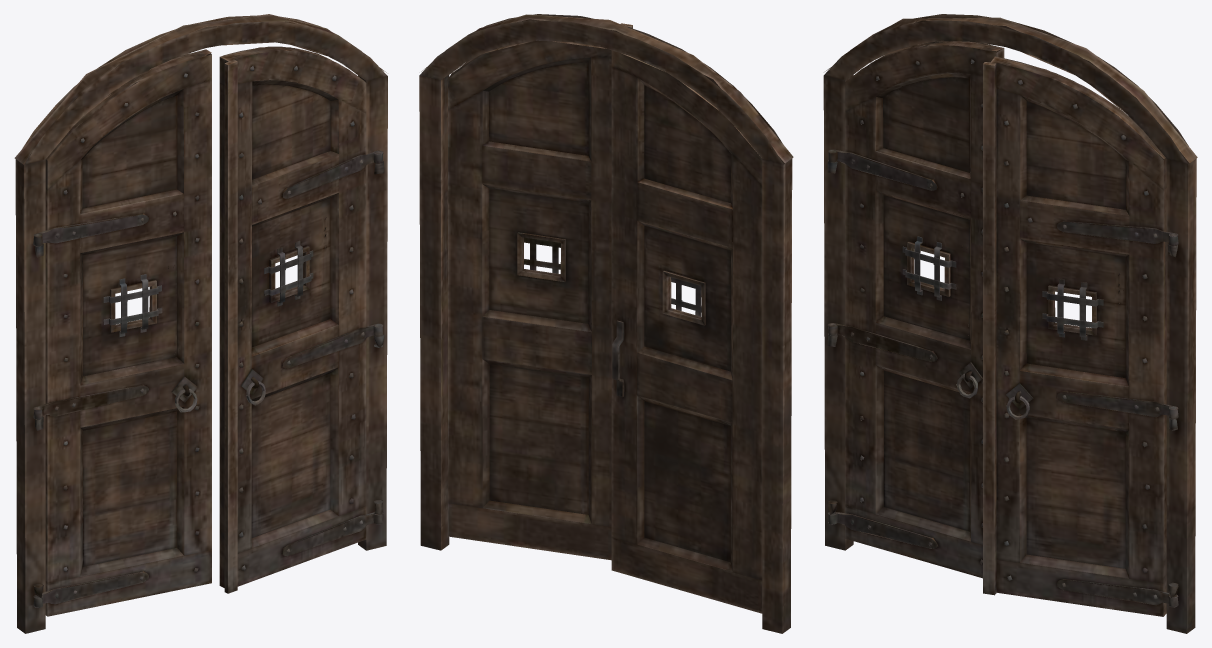
Rendered from large_castle_door.glb.
The picture shows the model from 3 angles, left to right: view 1: azimuth 30°, elevation 25°; view 2: azimuth 150°, elevation 25°; view 3: azimuth 330°, elevation 25°; orthographic projection.
Parts seen in each view (by area): view 1: large_castle_door_left, large_castle_door_right, large_castle_door_frame; view 2: large_castle_door_right, large_castle_door_left, large_castle_door_frame; view 3: large_castle_door_right, large_castle_door_left, large_castle_door_frame.
Part boxes in pixels (<box>): large_castle_door_left: <box>33,49,211,616</box>; large_castle_door_right: <box>219,46,383,593</box>; large_castle_door_frame: <box>14,14,387,633</box>; large_castle_door_right: <box>448,23,632,560</box>; large_castle_door_left: <box>611,50,762,613</box>; large_castle_door_frame: <box>419,14,793,633</box>; large_castle_door_right: <box>983,56,1178,616</box>; large_castle_door_left: <box>827,41,1004,578</box>; large_castle_door_frame: <box>823,14,1197,633</box>.
Size of the model in its own units: 2.03 by 2.97 by 0.2963.
Materials: 1 (1 with a texture image).
